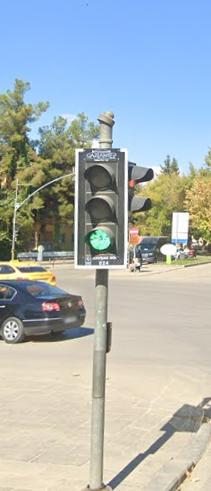greenlight: (79, 153, 126, 268)
